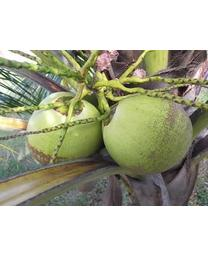coconut: (100, 94, 193, 174), (24, 91, 100, 165)
